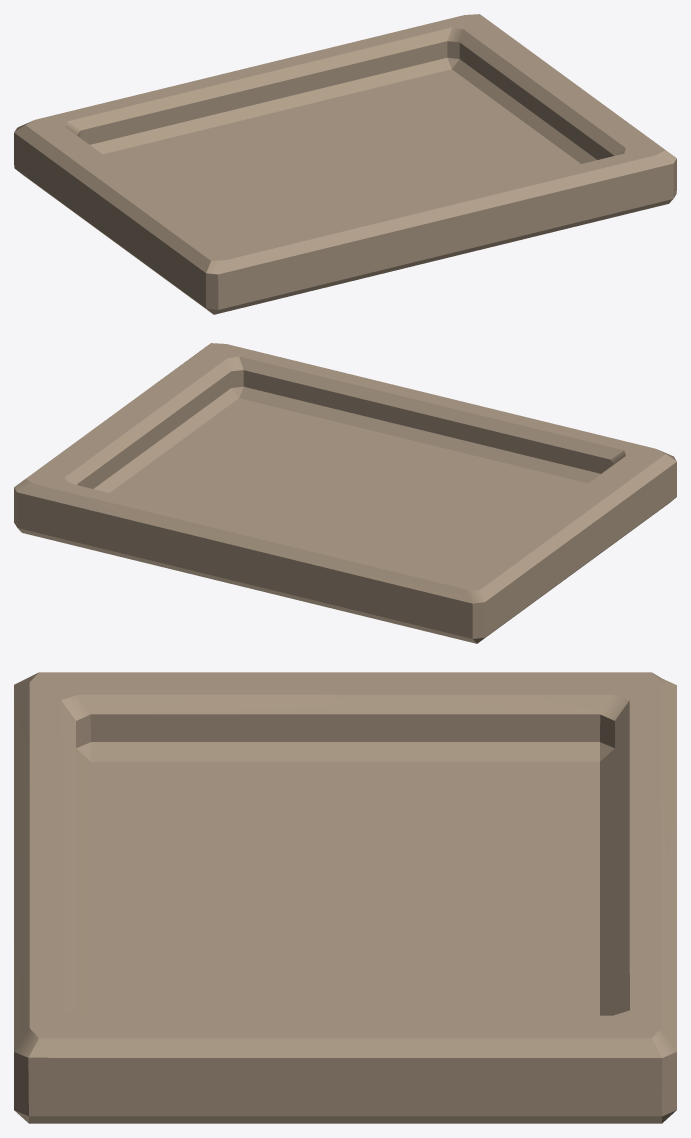
The model's file is sm_photo1.fbx.
3 renders of one model, top to bottom at view 1: azimuth 30°, elevation 25°; view 2: azimuth 150°, elevation 25°; view 3: azimuth 270°, elevation 25°, orthographic. The views are drawn at different scales.
Parts seen in each view (by area): view 1: photo1; view 2: photo1; view 3: photo1.
Boxes of the visible parts, x1,y1,x2,y2 form: photo1: (14, 14, 676, 314); photo1: (14, 343, 676, 643); photo1: (14, 672, 676, 1123).
Size of the model in its own units: 122 by 12.83 by 90.5.
